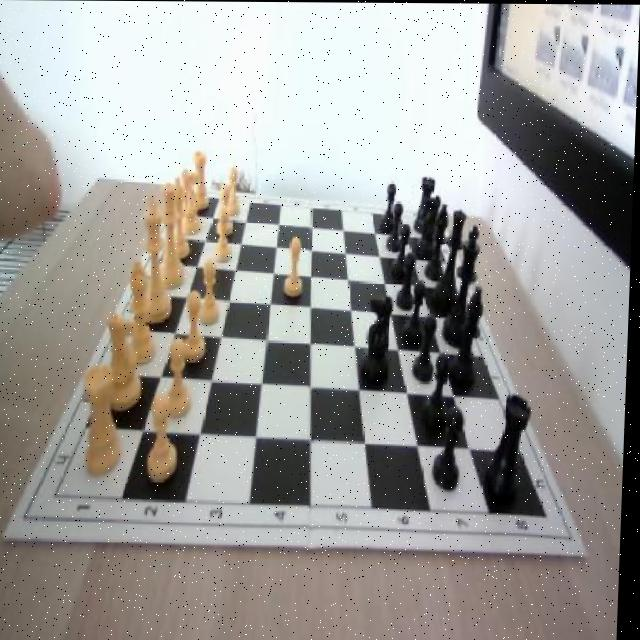bishop: (453, 286, 487, 387), (427, 201, 451, 282)
black-bishop: (444, 222, 484, 348)
black-king: (361, 293, 396, 386), (419, 194, 442, 256)
black-knight: (435, 406, 467, 490), (426, 353, 454, 430), (413, 313, 439, 383), (406, 278, 428, 345), (399, 251, 419, 312), (394, 222, 414, 279), (381, 182, 399, 232), (388, 201, 404, 254)
black-pawn: (434, 207, 469, 313)
black-queen: (486, 392, 535, 499), (417, 176, 437, 234)
black-rook: (123, 259, 163, 365), (169, 176, 194, 259)
white-bishop: (135, 193, 178, 326)
white-king: (105, 311, 147, 413), (178, 171, 205, 237)
white-knight: (149, 395, 184, 485), (165, 335, 198, 419), (182, 289, 211, 365), (198, 260, 224, 328), (285, 239, 307, 298), (214, 207, 235, 264), (225, 166, 244, 216), (218, 184, 237, 234)
white-pawn: (154, 182, 190, 289)
white-queen: (83, 364, 126, 477), (192, 150, 212, 213)
